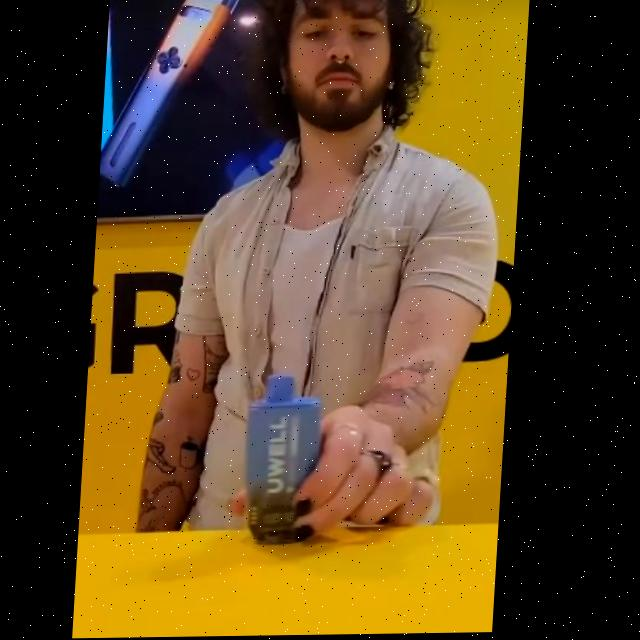vape: (247, 374, 329, 546)
